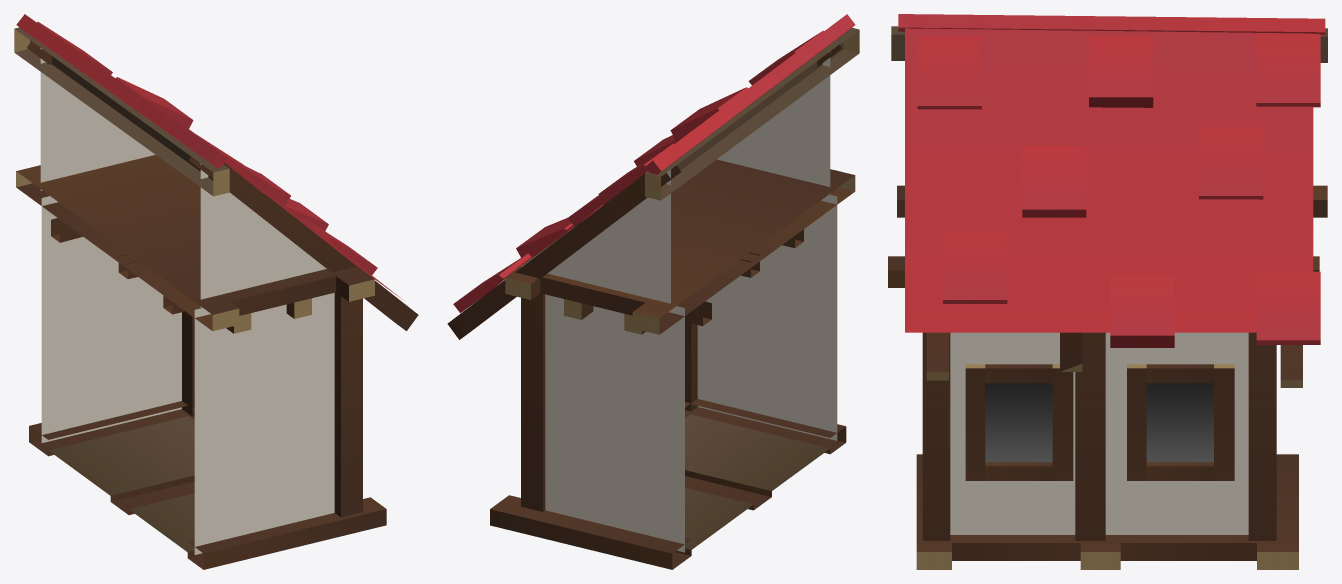
The model's file is House_Piece_2A.fbx.
3 renders of one model, left to right at view 1: azimuth 30°, elevation 25°; view 2: azimuth 150°, elevation 25°; view 3: azimuth 270°, elevation 25°, orthographic. The views are drawn at different scales.
Parts seen in each view (by area): view 1: polySurface9630; view 2: polySurface9630; view 3: polySurface9630.
Part boxes in pixels (left/top/right/bottom): polySurface9630: left=14, top=14, right=418, bottom=569; polySurface9630: left=447, top=14, right=859, bottom=569; polySurface9630: left=888, top=14, right=1327, bottom=569.
Size of the model in its own units: 219 by 387 by 334.
